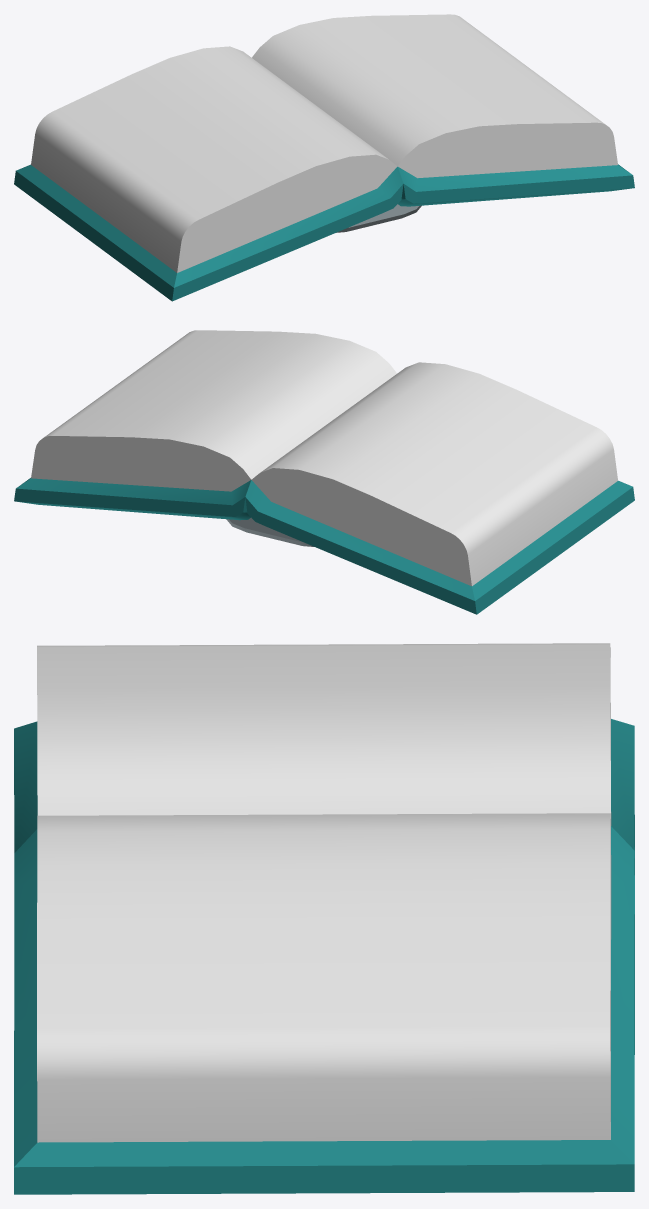
Rendered from bookOpenA.glb.
The picture shows the model from 3 angles, top to bottom: view 1: azimuth 30°, elevation 25°; view 2: azimuth 150°, elevation 25°; view 3: azimuth 270°, elevation 25°; orthographic projection. The views are drawn at different scales.
Parts seen in each view (by area): view 1: bookOpenA; view 2: bookOpenA; view 3: bookOpenA.
Boxes of the visible parts, x1=… form: bookOpenA: x1=14, y1=14, x2=634, y2=301; bookOpenA: x1=14, y1=330, x2=634, y2=614; bookOpenA: x1=14, y1=643, x2=634, y2=1194.
Bounding box in the file's own units: 0.1231 × 0.0275 × 0.0729.
